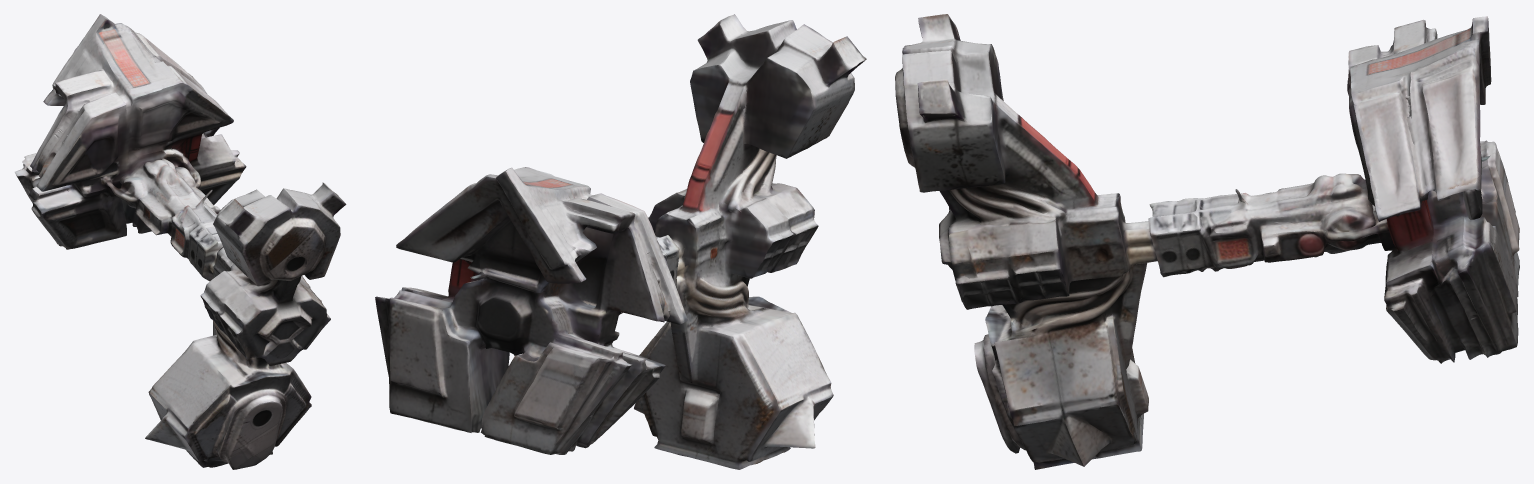
The model's file is ship1.glb.
The picture shows the model from 3 angles, left to right: view 1: azimuth 30°, elevation 25°; view 2: azimuth 150°, elevation 25°; view 3: azimuth 270°, elevation 25°; orthographic projection. The views are drawn at different scales.
Visible parts, largest first — view 1: SciFiHammer; view 2: SciFiHammer; view 3: SciFiHammer.
Part boxes in pixels (<box>): SciFiHammer: <box>14,14,346,469</box>; SciFiHammer: <box>375,14,866,469</box>; SciFiHammer: <box>895,14,1519,469</box>.
Bounding box in the file's own units: 0.6546 × 0.9482 × 1.2.
Materials: 1 (1 with a texture image).
